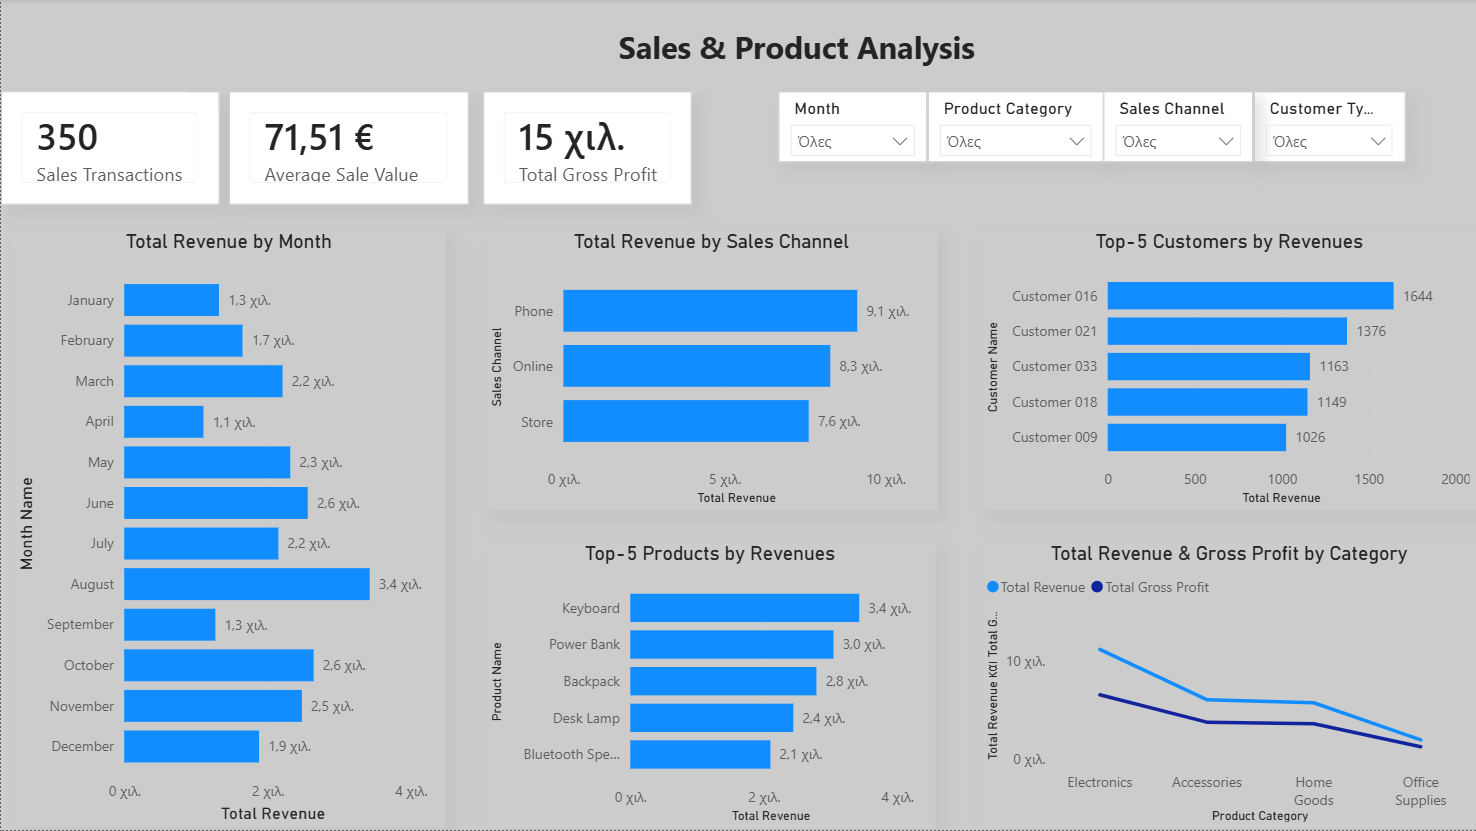

Layout of this report page (visuals, bound fields, positions):
{"tool":"powerbi","page":{"name":"Sales & Products","canvas":[1280,720],"ordinal":1},"visuals":[{"type":"cardVisual","fields":{"Data":["calendar.Sales Transactions"]},"box":[0,80.5,189.4,98.2],"z":0},{"type":"cardVisual","fields":{"Data":["calendar.Average Sale Value"]},"box":[197.6,80.5,208.3,98.2],"z":1000},{"type":"cardVisual","fields":{"Data":["Sum(view.Gross_Profit)"]},"box":[417.8,80.5,181.1,98.2],"z":2000},{"type":"clusteredBarChart","title":"Total Revenue by Month","fields":{"Category":["calendar.month_name"],"Y":["Sum(view.Revenue)"]},"box":[8.3,200,377.5,519.5],"z":3000},{"type":"barChart","title":"Total Revenue by Sales Channel","fields":{"Category":["view.sales_channel"],"Y":["Sum(view.Revenue)"]},"box":[417.8,200,394.1,243.8],"z":4000},{"type":"barChart","title":"Top-5 Products by Revenues","fields":{"Category":["view.product_name"],"Y":["Sum(view.Revenue)"]},"box":[417.8,469.8,391.7,249.7],"z":5000},{"type":"barChart","title":"Top-5 Customers by Revenues","fields":{"Category":["view.customer_name"],"Y":["Sum(view.Revenue)"]},"box":[848.5,200,432,243.8],"z":6000},{"type":"lineChart","title":"Total Revenue & Gross Profit by Category","fields":{"Category":["view.product_category"],"Y":["Sum(view.Revenue)","Sum(view.Gross_Profit)"]},"box":[848.5,469.8,432,249.7],"z":7000},{"type":"slicer","fields":{"Values":["calendar.month_name"]},"box":[674.6,80.5,129,61.5],"z":8000},{"type":"slicer","fields":{"Values":["products.product_category"]},"box":[803.6,80.5,152.7,61.5],"z":9000},{"type":"slicer","fields":{"Values":["view.customer_type"]},"box":[1086.4,80.5,131.4,61.5],"z":10000},{"type":"slicer","fields":{"Values":["view.sales_channel"]},"box":[956.2,80.5,130.2,61.5],"z":11000},{"type":"textbox","box":[162.1,0,1055.6,80.5],"z":11001}]}

Visuals, with their boxes in screenshot pixels (x1, y1, x2, y2), scaled from the page's 1280x720 canvas onto the 1476x831 screenshot:
cardVisual - calendar.Sales Transactions: {"left": 0, "top": 93, "right": 218, "bottom": 206}
cardVisual - calendar.Average Sale Value: {"left": 228, "top": 93, "right": 468, "bottom": 206}
cardVisual - Sum(view.Gross_Profit): {"left": 482, "top": 93, "right": 691, "bottom": 206}
"Total Revenue by Month" clusteredBarChart: {"left": 10, "top": 231, "right": 445, "bottom": 830}
"Total Revenue by Sales Channel" barChart: {"left": 482, "top": 231, "right": 936, "bottom": 512}
"Top-5 Products by Revenues" barChart: {"left": 482, "top": 542, "right": 933, "bottom": 830}
"Top-5 Customers by Revenues" barChart: {"left": 978, "top": 231, "right": 1475, "bottom": 512}
"Total Revenue & Gross Profit by Category" lineChart: {"left": 978, "top": 542, "right": 1475, "bottom": 830}
slicer - calendar.month_name: {"left": 778, "top": 93, "right": 927, "bottom": 164}
slicer - products.product_category: {"left": 927, "top": 93, "right": 1103, "bottom": 164}
slicer - view.customer_type: {"left": 1253, "top": 93, "right": 1404, "bottom": 164}
slicer - view.sales_channel: {"left": 1103, "top": 93, "right": 1253, "bottom": 164}
textbox: {"left": 187, "top": 0, "right": 1404, "bottom": 93}
